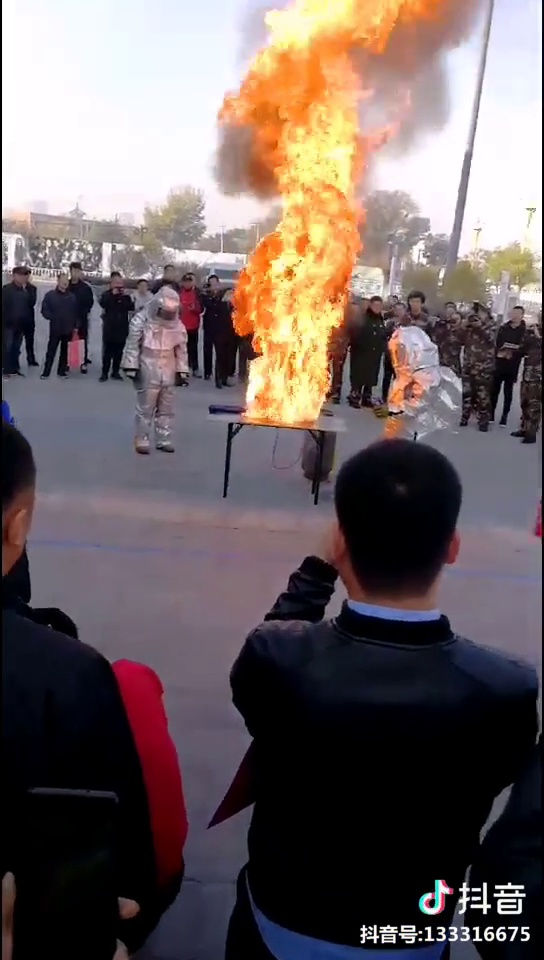fire: (240, 15, 400, 415)
